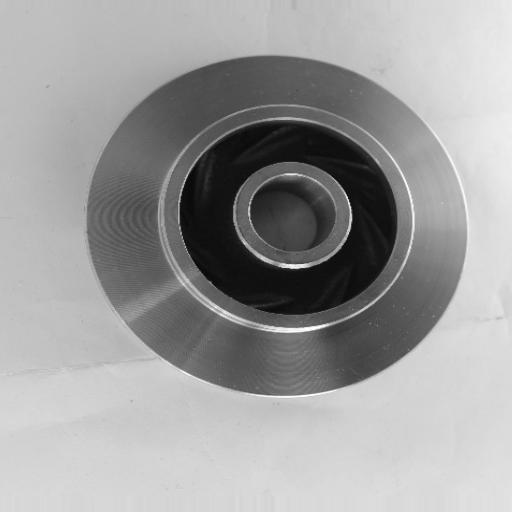polished_casting: (89, 50, 470, 397)
